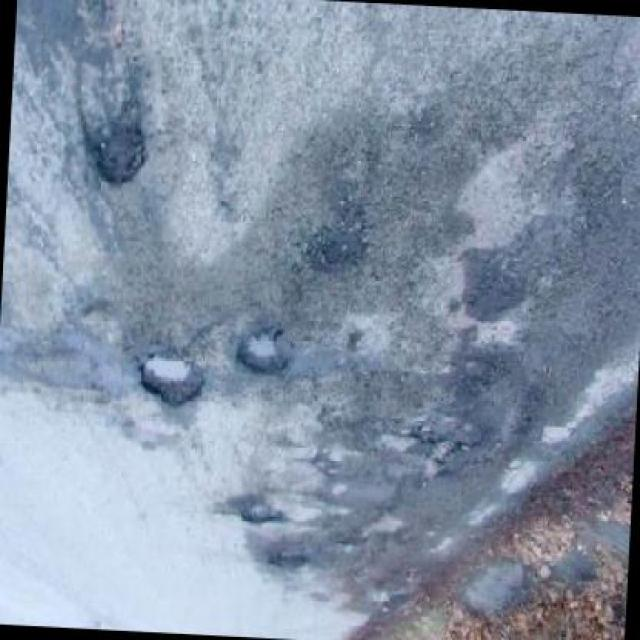pothole1: (461, 249, 525, 325), (134, 353, 206, 415), (305, 220, 372, 278), (92, 125, 150, 189), (232, 324, 291, 384), (454, 351, 511, 400), (239, 502, 290, 530), (268, 545, 310, 573), (431, 442, 457, 468), (411, 421, 438, 445)
